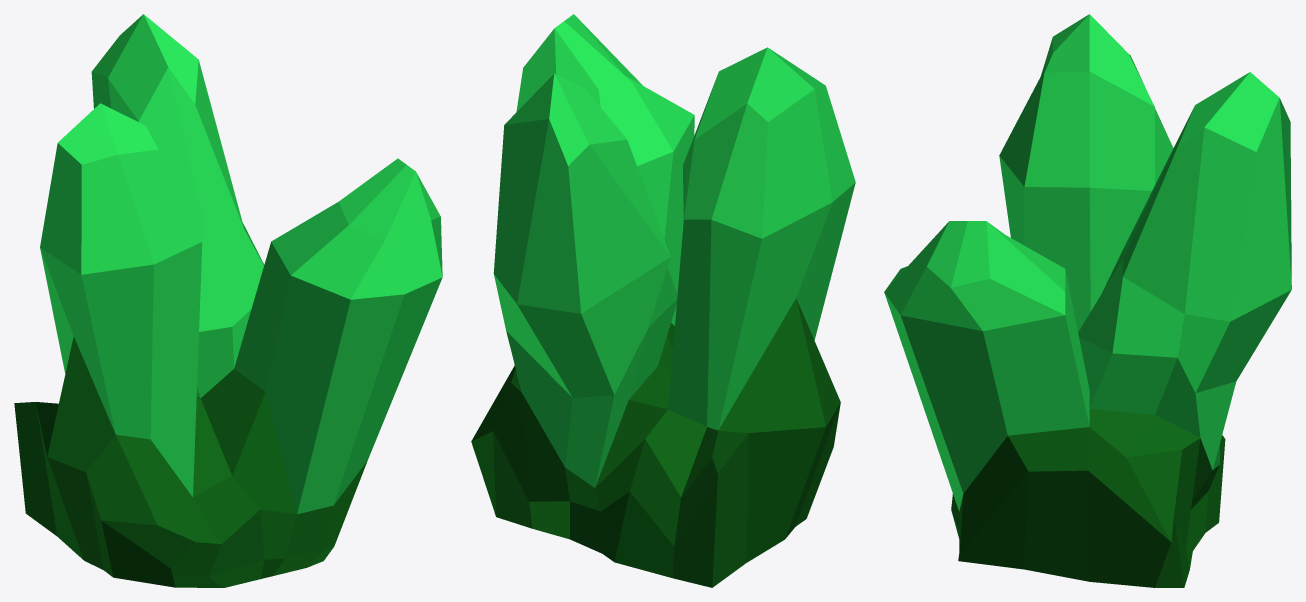
File: Spikes.fbx
The picture shows the model from 3 angles, left to right: view 1: azimuth 30°, elevation 25°; view 2: azimuth 150°, elevation 25°; view 3: azimuth 270°, elevation 25°; orthographic projection. The views are drawn at different scales.
Parts seen in each view (by area): view 1: Cube; view 2: Cube; view 3: Cube.
Part boxes in pixels (x1,y1,x2,y2): Cube: (14, 14, 442, 587); Cube: (471, 14, 855, 587); Cube: (884, 14, 1291, 587).
Size of the model in its own units: 314 by 400 by 313.
